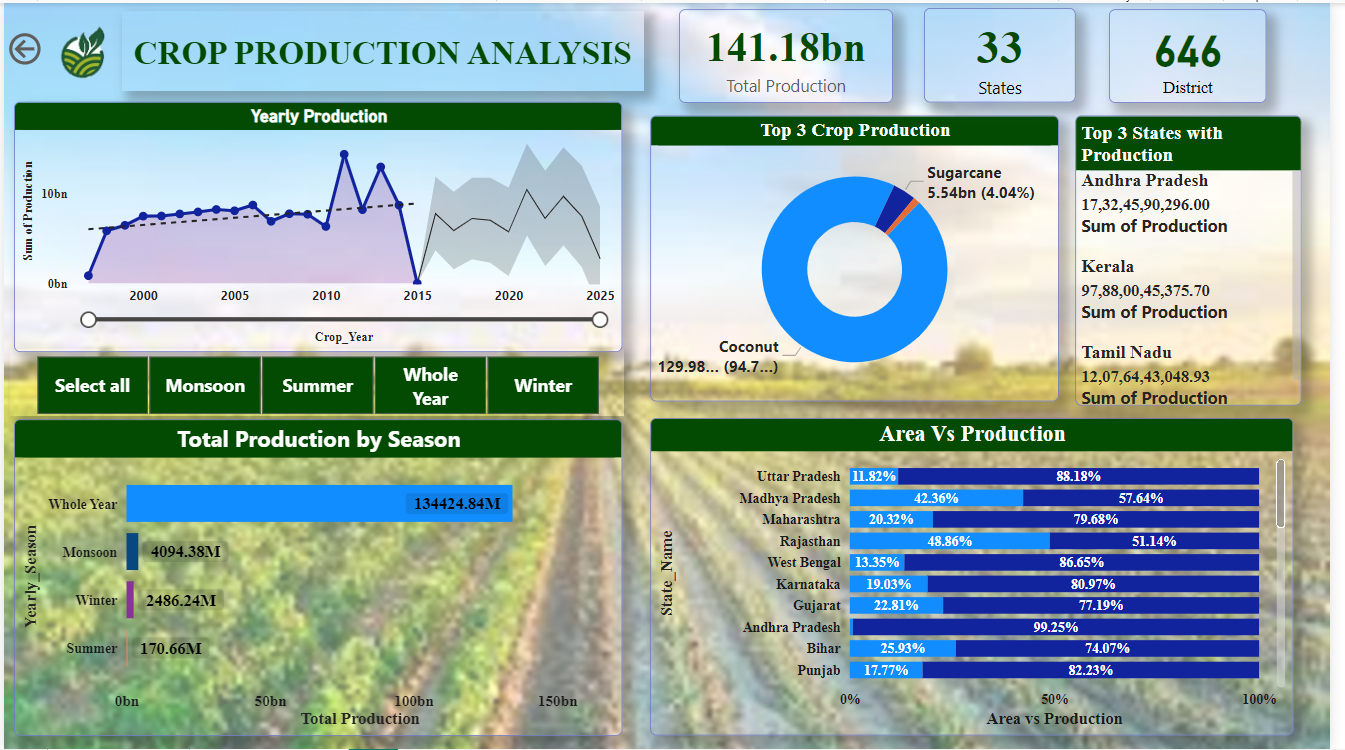

Layout of this report page (visuals, bound fields, positions):
{"tool":"powerbi","page":{"name":"CROP_SUMM","canvas":[1280,720],"ordinal":0},"visuals":[{"type":"lineChart","title":"Yearly Production","fields":{"Y":["Sum(Crop Production data.Production)"],"Category":["Crop Production data.Crop_Year"]},"box":[9.7,95.3,587.5,241.3],"z":0},{"type":"card","fields":{"Values":["Measure Table.Total Production"]},"box":[651.1,5.6,206.7,90],"z":1000},{"type":"donutChart","title":"Top 3 Crop Production","fields":{"Y":["Sum(Crop Production data.Production)"],"Category":["Crop Production data.Crop"]},"box":[623.7,108.6,394.5,276.3],"z":2000},{"type":"hundredPercentStackedBarChart","title":"Area Vs Production","fields":{"Y":["Sum(Crop Production data.Area)","Sum(Crop Production data.Production)"],"Category":["Crop Production data.State Hierarchy.State_Name","Crop Production data.State Hierarchy.District_Name","Crop Production data.State Hierarchy.Crop"]},"box":[623.5,400.3,620.6,306.7],"z":3000},{"type":"actionButton","box":[0,24.5,41.8,40.3],"z":4000,"group":"g1"},{"type":"multiRowCard","title":"Top 3 States with Production","fields":{"Values":["Crop Production data.State_Name","Sum(Crop Production data.Production)"]},"box":[1033.9,108.6,218.4,279.9],"z":4000},{"type":"card","fields":{"Values":["Count(Crop Production data.State Hierarchy.District_Name)"]},"box":[1066.7,5.6,152.2,90],"z":5000},{"type":"card","fields":{"Values":["Count(Crop Production data.State_Name)"]},"box":[887.8,4.4,146.7,91.1],"z":6000},{"type":"textbox","box":[113.8,7.2,504,77.8],"z":6000,"group":"g1"},{"type":"group","id":"g1","title":"Group 1","box":[0,0,617.8,95],"z":7000},{"type":"slicer","fields":{"Values":["Crop Production data.Yearly_Season Hierarchy.Yearly_Season"]},"box":[5.8,334.1,591.8,64.8],"z":8000},{"type":"clusteredBarChart","title":"Total Production by Season","fields":{"Category":["Crop Production data.Yearly_Season Hierarchy.Yearly_Season","Crop Production data.Yearly_Season Hierarchy.Season","Crop Production data.Yearly_Season Hierarchy.Crop","Crop Production data.Yearly_Season Hierarchy.Crop_Year"],"Y":["Measure Table.Total Production"]},"box":[10.1,401.8,587.5,305.3],"z":9000},{"type":"image","box":[20.2,0,110.9,95],"z":11001,"group":"g1"}]}

Visuals, with their boxes in screenshot pixels (x1, y1, x2, y2), scaled from the page's 1280x720 canvas onto the 1345x750 screenshot:
"Yearly Production" lineChart: detection(10, 99, 628, 351)
card - Measure Table.Total Production: detection(684, 6, 901, 100)
"Top 3 Crop Production" donutChart: detection(655, 113, 1070, 401)
"Area Vs Production" hundredPercentStackedBarChart: detection(655, 417, 1307, 736)
actionButton: detection(0, 26, 44, 68)
"Top 3 States with Production" multiRowCard: detection(1086, 113, 1316, 405)
card - Count(Crop Production data.State Hierarchy.District_Name): detection(1121, 6, 1281, 100)
card - Count(Crop Production data.State_Name): detection(933, 5, 1087, 99)
textbox: detection(120, 8, 649, 89)
"Group 1" group: detection(0, 0, 649, 99)
slicer - Crop Production data.Yearly_Season Hierarchy.Yearly_Season: detection(6, 348, 628, 416)
"Total Production by Season" clusteredBarChart: detection(11, 419, 628, 737)
image: detection(21, 0, 138, 99)
